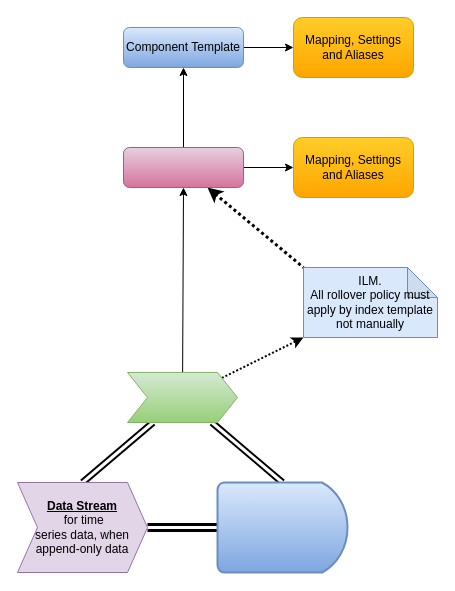
The diagram is 455 pixels wide and 591 high, and some of its shapes have lost their labels. The shapes that lost their labels are listed below. From the top down, each one's centre as x and y in pixels, then its label:
At point 183,167: "Index Template".
At point 182,397: "Index".
At point 282,527: "Alias for indices when updates are required for time-series data".
